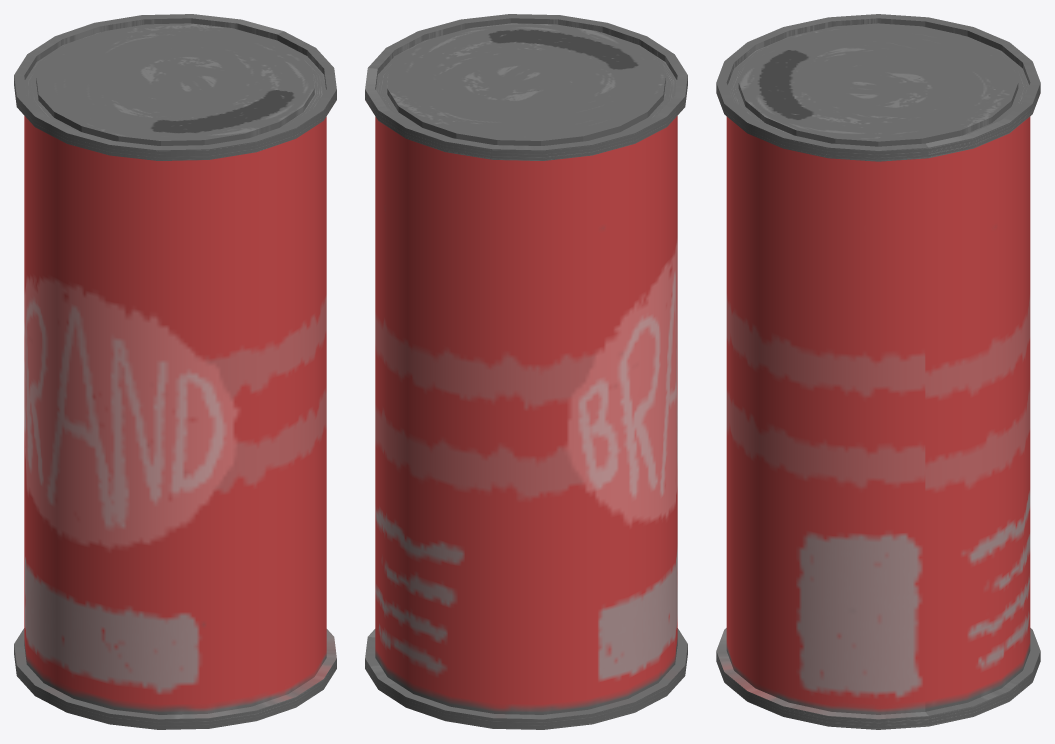
File: TexturedCan1Real.fbx
3 views of the same model, side by side, from view 1: azimuth 30°, elevation 25°; view 2: azimuth 150°, elevation 25°; view 3: azimuth 270°, elevation 25° (orthographic).
Visible parts, largest first — view 1: pCylinder1; view 2: pCylinder1; view 3: pCylinder1.
Boxes of the visible parts, bbox=[...] form: pCylinder1: bbox=[14, 14, 336, 729]; pCylinder1: bbox=[365, 14, 687, 729]; pCylinder1: bbox=[716, 14, 1040, 729].
Bounding box in the file's own units: 2.13 × 4.2 × 2.13.
Materials: 1 (1 with a texture image).
